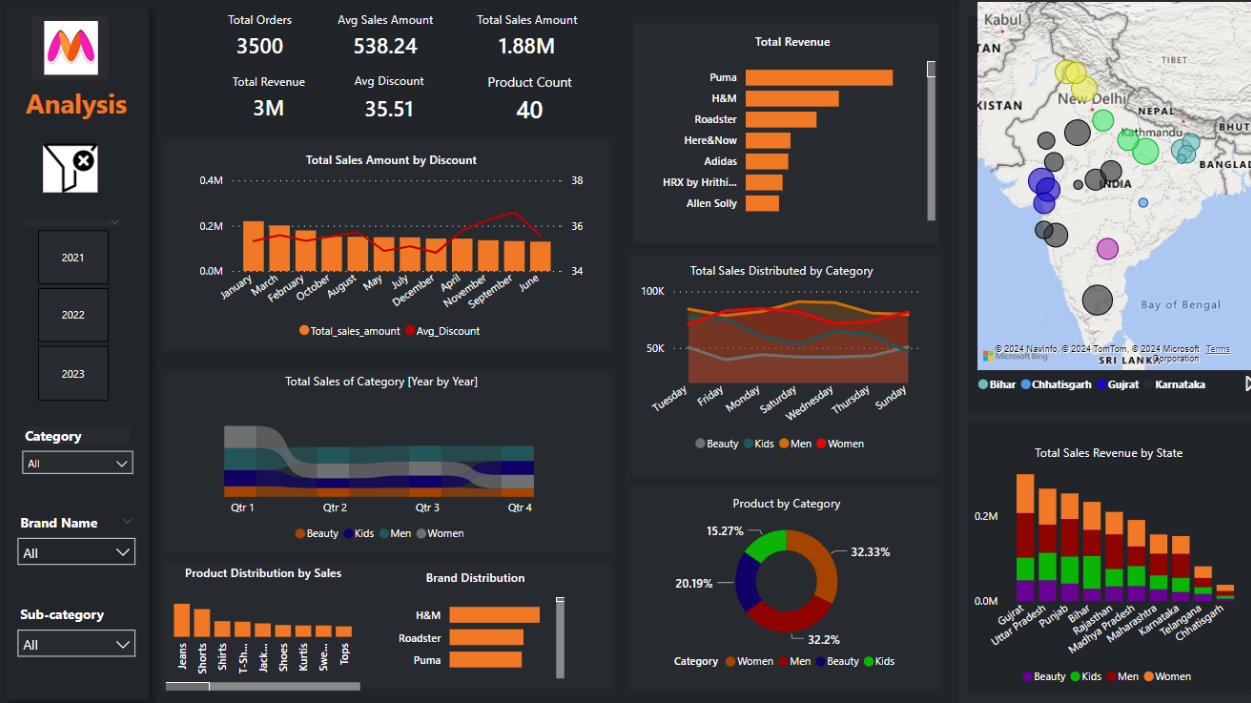

The dashboard page shown, as its layout file describes it:
{"tool":"powerbi","page":{"name":"Main","canvas":[1280,720],"ordinal":0},"visuals":[{"type":"shape","box":[975.5,0,304.9,719.4],"z":0},{"type":"shape","box":[975.1,0,304.9,719.4],"z":1000},{"type":"shape","box":[975.1,0.6,304.9,719.4],"z":2000},{"type":"shape","box":[975.1,0.6,304.9,719.4],"z":3000},{"type":"shape","box":[975.5,0,304.9,719.4],"z":4000},{"type":"shape","box":[1,1,164.6,719.4],"z":5000},{"type":"shape","box":[975.1,0.6,304.9,719.4],"z":6000},{"type":"shape","box":[975.1,0.6,304.9,719.4],"z":7000},{"type":"shape","box":[975.1,0.6,304.9,719.4],"z":8000},{"type":"shape","box":[975.1,0.6,304.9,719.4],"z":9000},{"type":"shape","box":[975.1,0.6,304.9,719.4],"z":10000},{"type":"shape","box":[975.1,0.6,304.9,719.4],"z":11000},{"type":"shape","box":[975.1,0.6,304.9,719.4],"z":12000},{"type":"shape","box":[975.1,0.6,304.9,719.4],"z":13000},{"type":"shape","box":[975.1,0.6,304.9,719.4],"z":14000},{"type":"shape","box":[975.1,0.6,304.9,719.4],"z":15000},{"type":"shape","box":[975.1,0.6,304.9,719.4],"z":16000},{"type":"shape","box":[975.1,0.6,304.9,719.4],"z":17000},{"type":"shape","box":[975.1,0.6,304.9,719.4],"z":18000},{"type":"shape","box":[975.1,0.6,304.9,719.4],"z":19000},{"type":"shape","box":[975.1,0.6,304.9,719.4],"z":20000},{"type":"shape","box":[975.1,0.6,304.9,719.4],"z":21000},{"type":"shape","box":[975.1,0.6,304.9,719.4],"z":22000},{"type":"shape","box":[975.1,0.6,304.9,719.4],"z":23000},{"type":"shape","box":[975.1,0.6,304.9,719.4],"z":24000},{"type":"shape","box":[975.1,0.6,304.9,719.4],"z":25000},{"type":"shape","box":[975.1,0.6,304.9,719.4],"z":26000},{"type":"shape","box":[975.1,0.6,304.9,719.4],"z":27000},{"type":"shape","box":[975.1,0.6,304.9,719.4],"z":28000},{"type":"shape","box":[975.1,0.6,304.9,719.4],"z":29000},{"type":"shape","box":[975.1,0.6,304.9,719.4],"z":30000},{"type":"shape","box":[975.1,0.6,304.9,719.4],"z":31000},{"type":"shape","box":[975.1,0.6,304.9,719.4],"z":32000},{"type":"shape","box":[975.1,0.6,304.9,719.4],"z":33000},{"type":"shape","box":[975.1,0.6,304.9,719.4],"z":34000},{"type":"shape","box":[975.1,0.6,304.9,719.4],"z":35000},{"type":"shape","box":[975.1,0.6,304.9,719.4],"z":36000},{"type":"shape","box":[975.1,0.6,304.9,719.4],"z":37000},{"type":"shape","box":[975.1,0.6,304.9,719.4],"z":38000},{"type":"shape","box":[975.1,0.6,304.9,719.4],"z":39000},{"type":"shape","box":[975.1,0.6,304.9,719.4],"z":40000},{"type":"shape","box":[975.1,0.6,304.9,719.4],"z":41000},{"type":"shape","box":[975.1,0.6,304.9,719.4],"z":42000},{"type":"shape","box":[975.1,0.6,304.9,719.4],"z":43000},{"type":"shape","box":[975.1,0.6,304.9,719.4],"z":44000},{"type":"shape","box":[975.1,0.6,304.9,719.4],"z":45000},{"type":"shape","box":[975.1,0.6,304.9,719.4],"z":46000},{"type":"shape","box":[975.1,0.6,304.9,719.4],"z":47000},{"type":"shape","box":[975.1,0.6,304.9,719.4],"z":48000},{"type":"shape","box":[975.1,0.6,304.9,719.4],"z":49000},{"type":"shape","box":[975.1,0.6,304.9,719.4],"z":50000},{"type":"shape","box":[975.1,0.6,304.9,719.4],"z":51000},{"type":"shape","box":[975.1,0.6,304.9,719.4],"z":52000},{"type":"shape","box":[975.1,0.6,304.9,719.4],"z":53000},{"type":"shape","box":[975.1,0.6,304.9,719.4],"z":54000},{"type":"shape","box":[975.1,0.6,304.9,719.4],"z":55000},{"type":"shape","box":[975.1,0.6,304.9,719.4],"z":56000},{"type":"shape","box":[975.1,0.6,304.9,719.4],"z":57000},{"type":"shape","box":[985.1,428.8,285.9,276.3],"z":58000},{"type":"shape","box":[639.7,18.9,323,237],"z":59000},{"type":"shape","box":[985.1,19.1,285.9,401.4],"z":60000},{"type":"shape","box":[164.6,567.3,463.5,137.4],"z":61000},{"type":"shape","box":[639.7,488.7,323,216],"z":62000},{"type":"shape","box":[165.7,139.5,462.5,221.3],"z":63000},{"type":"shape","box":[639.7,255.9,323,232.8],"z":64000},{"type":"shape","box":[164.6,373.3,463.5,194],"z":65000},{"type":"textbox","box":[13.6,84.9,139.5,54.5],"z":66000},{"type":"slicer","title":"Category","fields":{"Values":["Date_table.Year"]},"box":[17.8,220.2,121.6,194],"z":67000},{"type":"card","title":"Total Orders","fields":{"Values":["Measures_Table.Total_orders"]},"box":[211.8,14.7,113.3,56.6],"z":68000},{"type":"card","title":"Avg Discount","fields":{"Values":["Measures_Table.Avg_Discount"]},"box":[334.3,75.5,131.1,59.8],"z":69000},{"type":"card","title":"Avg Sales Amount","fields":{"Values":["Measures_Table.Avg_sales_amount"]},"box":[325.1,14.7,140.5,56.6],"z":70000},{"type":"card","title":"Total Sales Amount","fields":{"Values":["Measures_Table.Total_sales_amount"]},"box":[471.1,14.7,135.3,56.6],"z":71000},{"type":"card","title":"Total Revenue","fields":{"Values":["Measures_Table.Sum_original_price"]},"box":[220.2,77.6,114.3,56.6],"z":72000},{"type":"card","title":"Product Count","fields":{"Values":["Count(dim_products.Product Name)"]},"box":[487.6,76.6,109.1,59.8],"z":73000},{"type":"barChart","title":"Total Revenue","fields":{"Y":["Sum(fact_orders.Sales Amount)"],"Category":["dim_products.Brand Name"]},"box":[658.6,35.7,298.9,195.1],"z":74000},{"type":"columnChart","title":"Total Sales Revenue by State","fields":{"Category":["dim_customers.State"],"Y":["Sum(fact_orders.Sales Amount)"],"Series":["dim_products.Category"]},"box":[986.3,452.6,282.3,252.5],"z":75000},{"type":"donutChart","title":"Product by Category","fields":{"Y":["CountNonNull(dim_products.Product ID)"],"Category":["dim_products.Category"]},"box":[658.6,503.4,286.3,186.7],"z":76000},{"type":"barChart","title":"Brand Distribution","fields":{"Category":["dim_products.Brand Name"],"Y":["CountNonNull(dim_products.Brand Name)"]},"box":[392.2,578.9,189.8,115.4],"z":77000},{"type":"lineStackedColumnComboChart","title":"Total Sales Amount by Discount","fields":{"Category":["Date_table.Month_NAME"],"Y":["Measures_Table.Total_sales_amount"],"Y2":["Measures_Table.Avg_Discount"]},"box":[202.4,155.2,398.5,199.2],"z":78000},{"type":"ribbonChart","title":"Total Sales of Category [Year by Year]","fields":{"Category":["Date_table.Date.Variation.Date Hierarchy.Year","Date_table.Date.Variation.Date Hierarchy.Quarter","Date_table.Date.Variation.Date Hierarchy.Month","Date_table.Date.Variation.Date Hierarchy.Day"],"Y":["Measures_Table.Total_sales_amount"],"Series":["dim_products.Category"]},"box":[190.9,379.6,402.7,180.4],"z":79000},{"type":"columnChart","title":"Product Distribution by Sales","fields":{"Category":["dim_products.Product Name"],"Y":["CountNonNull(dim_products.Product Name)"]},"box":[168.8,573.6,206.6,132.1],"z":80000},{"type":"areaChart","title":"Total Sales Distributed by Category","fields":{"Category":["Date_table.Day of Week"],"Y":["Measures_Table.Total_sales_amount"],"Series":["dim_products.Category"]},"box":[649.1,267.4,295.7,201.3],"z":81000},{"type":"map","fields":{"Category":["dim_customers.City"],"Series":["dim_customers.State"],"Size":["Measures_Table.Total_orders"]},"box":[989.9,0,290.5,409],"z":82000},{"type":"slicer","title":"Brand Name","fields":{"Values":["dim_products.Brand Name"]},"box":[13.6,517,139.5,79.7],"z":83000},{"type":"slicer","title":"Category","fields":{"Values":["dim_products.Category"]},"box":[17.8,428.9,132.1,73.4],"z":84000},{"type":"slicer","title":"Sub-Category","fields":{"Values":["dim_products.Sub-category"]},"box":[13.6,610.3,139.5,79.7],"z":85000},{"type":"image","box":[45.1,139.5,65,65],"z":86000},{"type":"image","box":[38.8,18.9,77.6,64],"z":87000}]}

Visuals, with their boxes in screenshot pixels (x1, y1, x2, y2), scaled from the page's 1280x720 canvas onto the 1251x703 screenshot:
shape: bbox=[953, 0, 1250, 702]
shape: bbox=[953, 0, 1250, 702]
shape: bbox=[953, 1, 1250, 702]
shape: bbox=[953, 1, 1250, 702]
shape: bbox=[953, 0, 1250, 702]
shape: bbox=[1, 1, 162, 702]
shape: bbox=[953, 1, 1250, 702]
shape: bbox=[953, 1, 1250, 702]
shape: bbox=[953, 1, 1250, 702]
shape: bbox=[953, 1, 1250, 702]
shape: bbox=[953, 1, 1250, 702]
shape: bbox=[953, 1, 1250, 702]
shape: bbox=[953, 1, 1250, 702]
shape: bbox=[953, 1, 1250, 702]
shape: bbox=[953, 1, 1250, 702]
shape: bbox=[953, 1, 1250, 702]
shape: bbox=[953, 1, 1250, 702]
shape: bbox=[953, 1, 1250, 702]
shape: bbox=[953, 1, 1250, 702]
shape: bbox=[953, 1, 1250, 702]
shape: bbox=[953, 1, 1250, 702]
shape: bbox=[953, 1, 1250, 702]
shape: bbox=[953, 1, 1250, 702]
shape: bbox=[953, 1, 1250, 702]
shape: bbox=[953, 1, 1250, 702]
shape: bbox=[953, 1, 1250, 702]
shape: bbox=[953, 1, 1250, 702]
shape: bbox=[953, 1, 1250, 702]
shape: bbox=[953, 1, 1250, 702]
shape: bbox=[953, 1, 1250, 702]
shape: bbox=[953, 1, 1250, 702]
shape: bbox=[953, 1, 1250, 702]
shape: bbox=[953, 1, 1250, 702]
shape: bbox=[953, 1, 1250, 702]
shape: bbox=[953, 1, 1250, 702]
shape: bbox=[953, 1, 1250, 702]
shape: bbox=[953, 1, 1250, 702]
shape: bbox=[953, 1, 1250, 702]
shape: bbox=[953, 1, 1250, 702]
shape: bbox=[953, 1, 1250, 702]
shape: bbox=[953, 1, 1250, 702]
shape: bbox=[953, 1, 1250, 702]
shape: bbox=[953, 1, 1250, 702]
shape: bbox=[953, 1, 1250, 702]
shape: bbox=[953, 1, 1250, 702]
shape: bbox=[953, 1, 1250, 702]
shape: bbox=[953, 1, 1250, 702]
shape: bbox=[953, 1, 1250, 702]
shape: bbox=[953, 1, 1250, 702]
shape: bbox=[953, 1, 1250, 702]
shape: bbox=[953, 1, 1250, 702]
shape: bbox=[953, 1, 1250, 702]
shape: bbox=[953, 1, 1250, 702]
shape: bbox=[953, 1, 1250, 702]
shape: bbox=[953, 1, 1250, 702]
shape: bbox=[953, 1, 1250, 702]
shape: bbox=[953, 1, 1250, 702]
shape: bbox=[953, 1, 1250, 702]
shape: bbox=[963, 419, 1242, 688]
shape: bbox=[625, 18, 941, 250]
shape: bbox=[963, 19, 1242, 411]
shape: bbox=[161, 554, 614, 688]
shape: bbox=[625, 477, 941, 688]
shape: bbox=[162, 136, 614, 352]
shape: bbox=[625, 250, 941, 477]
shape: bbox=[161, 364, 614, 554]
textbox: bbox=[13, 83, 150, 136]
"Category" slicer: bbox=[17, 215, 136, 404]
"Total Orders" card: bbox=[207, 14, 318, 70]
"Avg Discount" card: bbox=[327, 74, 455, 132]
"Avg Sales Amount" card: bbox=[318, 14, 455, 70]
"Total Sales Amount" card: bbox=[460, 14, 593, 70]
"Total Revenue" card: bbox=[215, 76, 327, 131]
"Product Count" card: bbox=[477, 75, 583, 133]
"Total Revenue" barChart: bbox=[644, 35, 936, 225]
"Total Sales Revenue by State" columnChart: bbox=[964, 442, 1240, 688]
"Product by Category" donutChart: bbox=[644, 492, 923, 674]
"Brand Distribution" barChart: bbox=[383, 565, 569, 678]
"Total Sales Amount by Discount" lineStackedColumnComboChart: bbox=[198, 152, 587, 346]
"Total Sales of Category [Year by Year]" ribbonChart: bbox=[187, 371, 580, 547]
"Product Distribution by Sales" columnChart: bbox=[165, 560, 367, 689]
"Total Sales Distributed by Category" areaChart: bbox=[634, 261, 923, 458]
map - dim_customers.City x dim_customers.State: bbox=[967, 0, 1250, 399]
"Brand Name" slicer: bbox=[13, 505, 150, 583]
"Category" slicer: bbox=[17, 419, 147, 490]
"Sub-Category" slicer: bbox=[13, 596, 150, 674]
image: bbox=[44, 136, 108, 200]
image: bbox=[38, 18, 114, 81]
